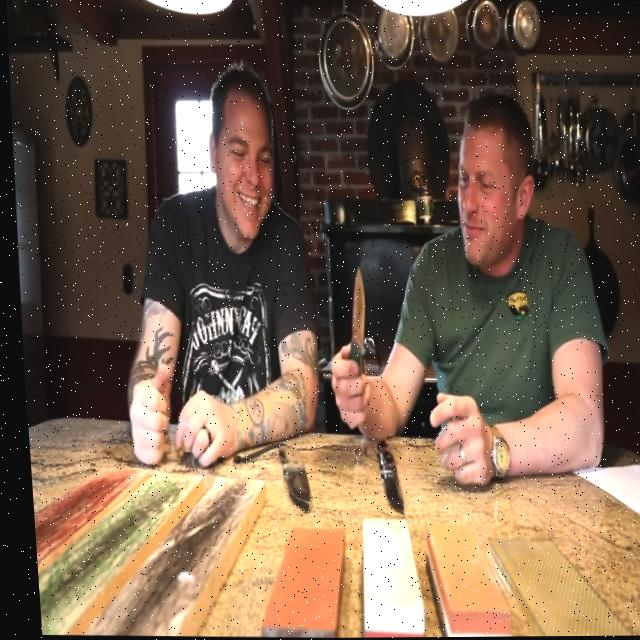knife: (339, 265, 365, 364), (368, 435, 399, 515), (270, 443, 305, 509)
